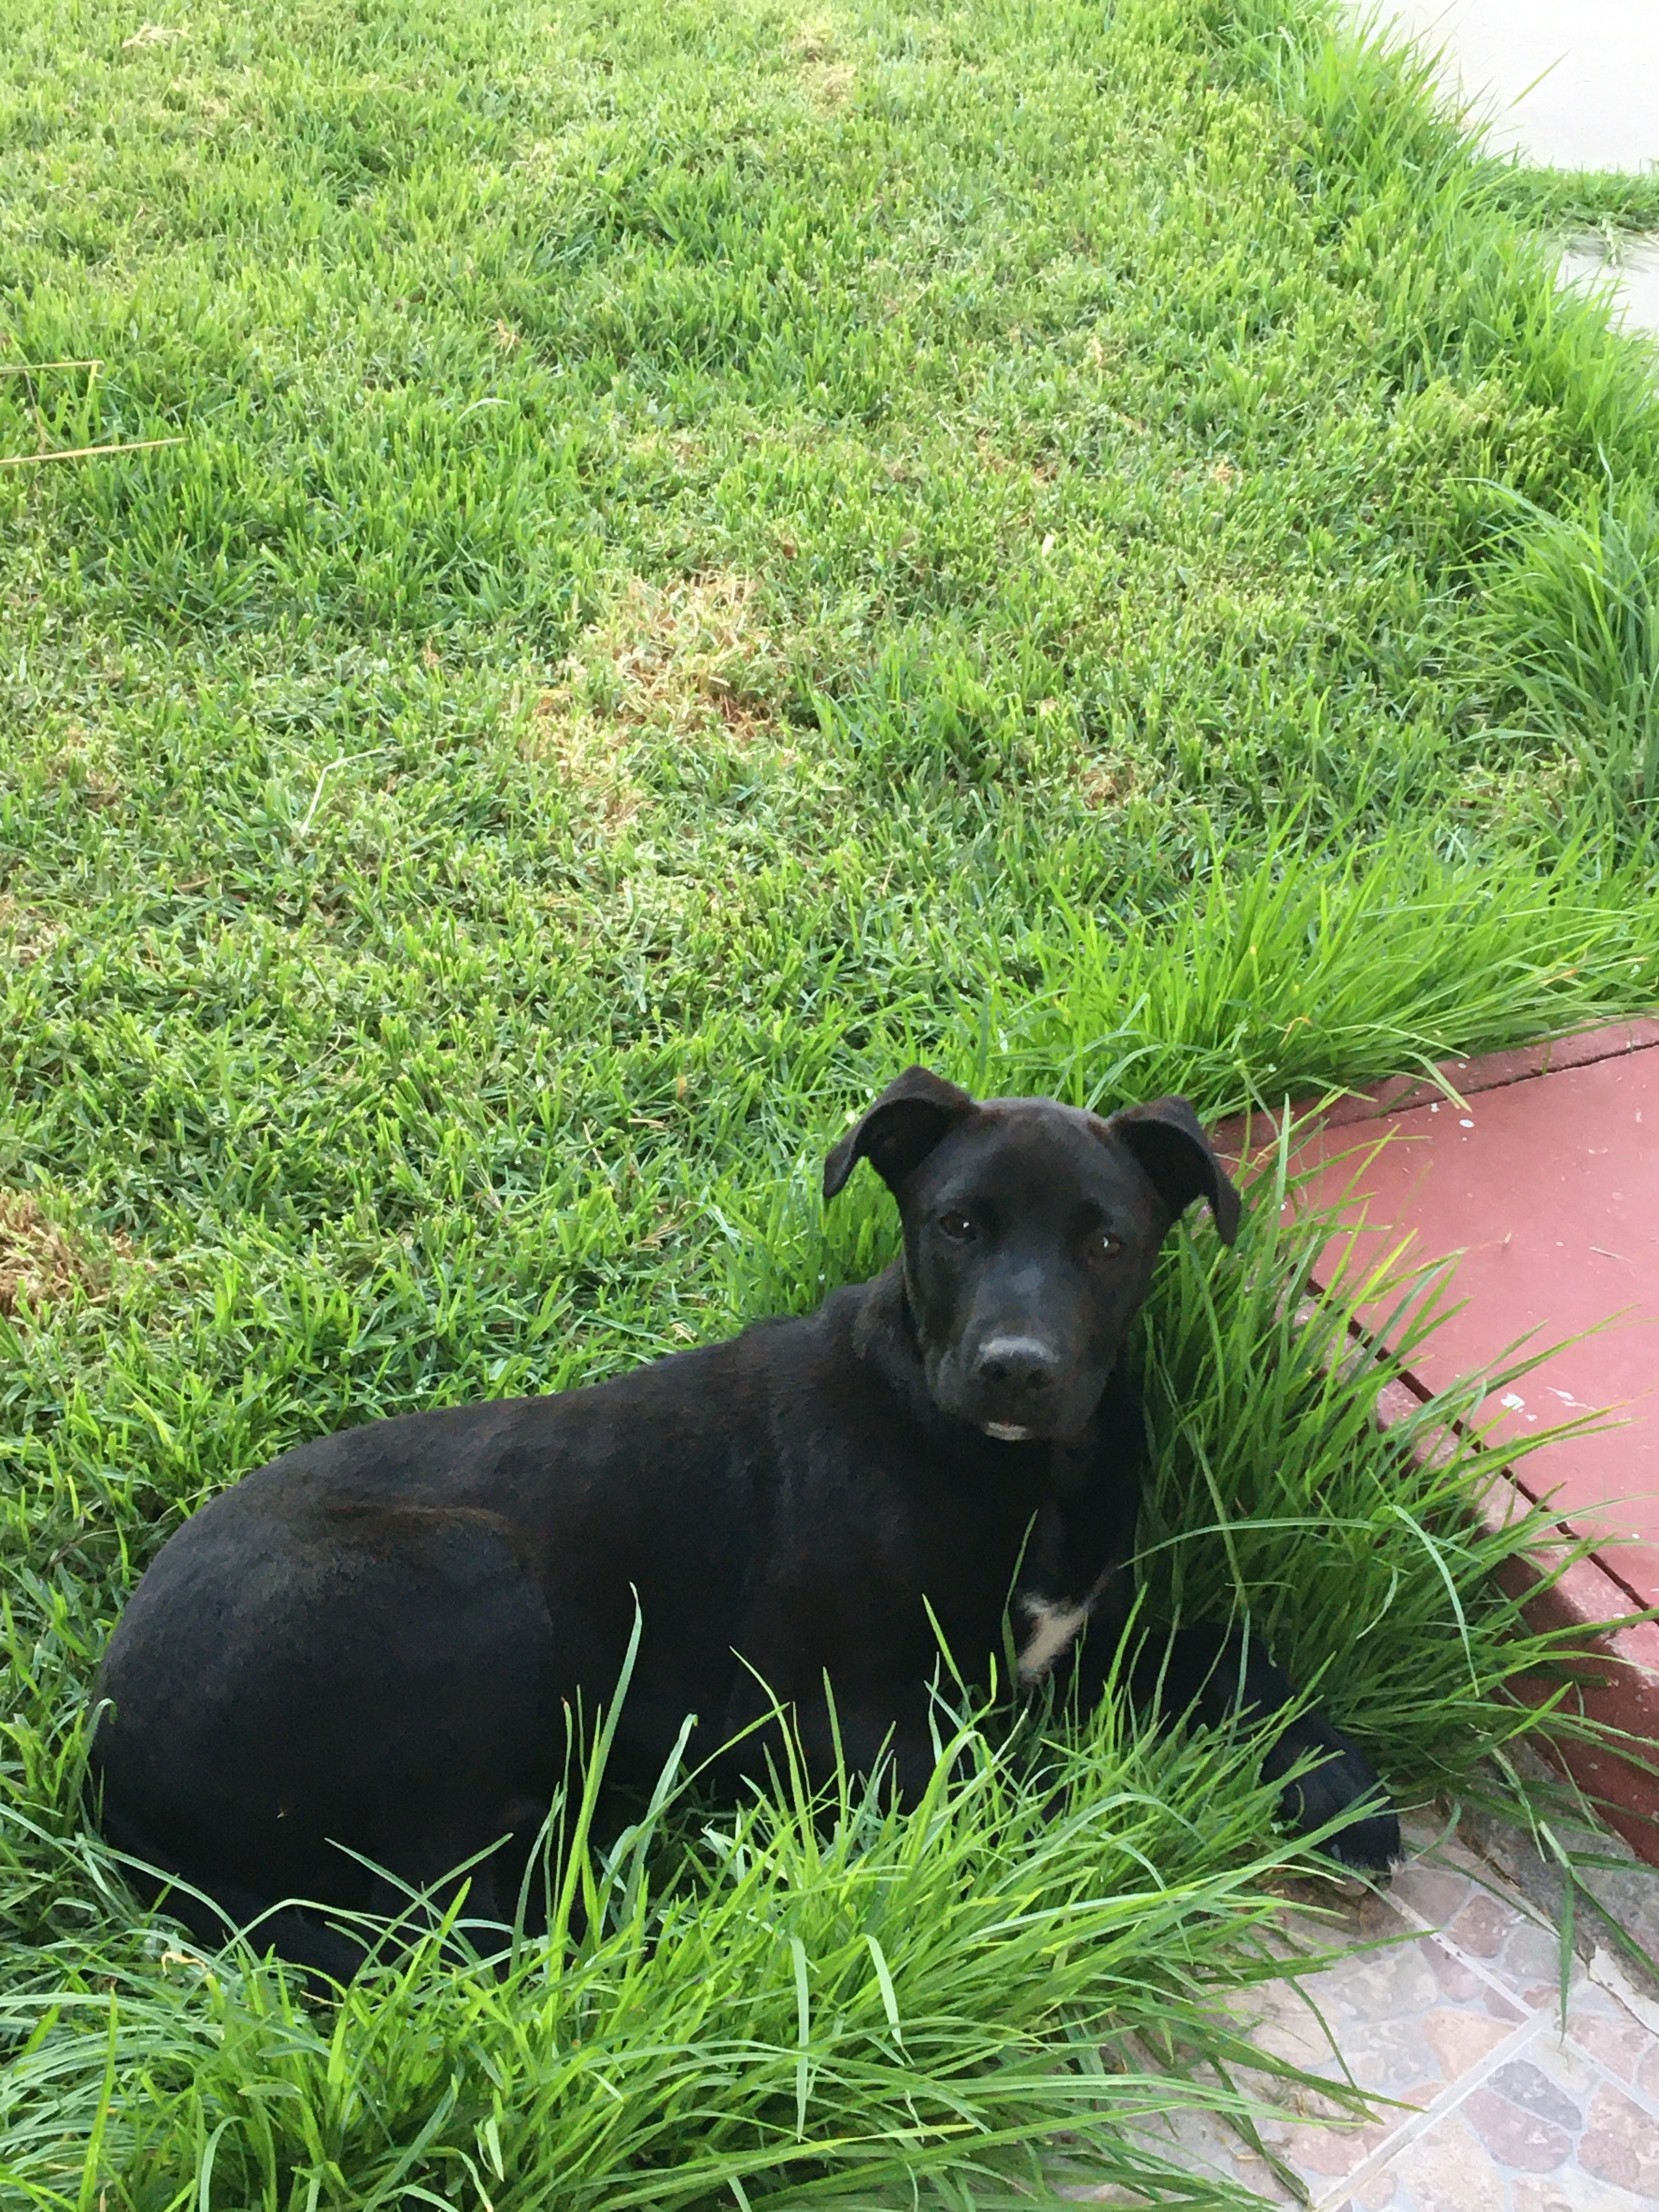black: (89, 1069, 1417, 2008)
